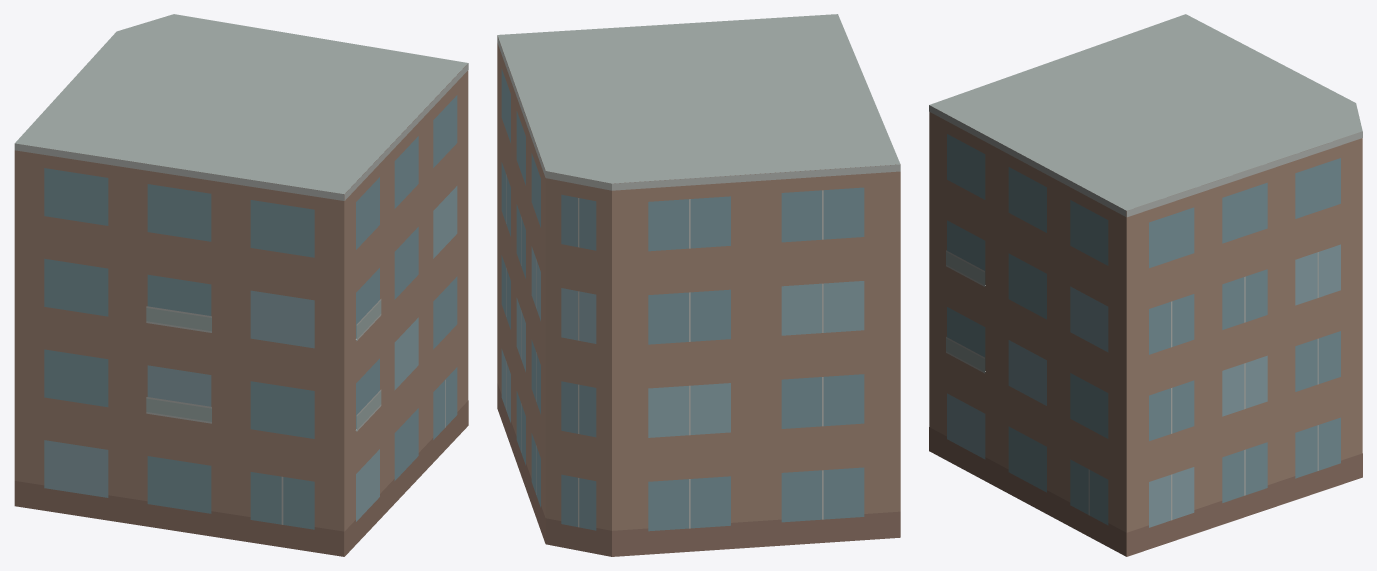
Rendered from survey-upis-33018546.glb.
3 renders of one model, left to right at view 1: azimuth 30°, elevation 25°; view 2: azimuth 150°, elevation 25°; view 3: azimuth 270°, elevation 25°, orthographic. The views are drawn at different scales.
Parts seen in each view (by area): view 1: survey-upis-33018546.tmp; view 2: survey-upis-33018546.tmp; view 3: survey-upis-33018546.tmp.
Part boxes in pixels (<box>): survey-upis-33018546.tmp: <box>14,14,468,556</box>; survey-upis-33018546.tmp: <box>497,14,900,556</box>; survey-upis-33018546.tmp: <box>929,14,1362,556</box>.
Bounding box in the file's own units: 15.62 × 12.8 × 14.55.
